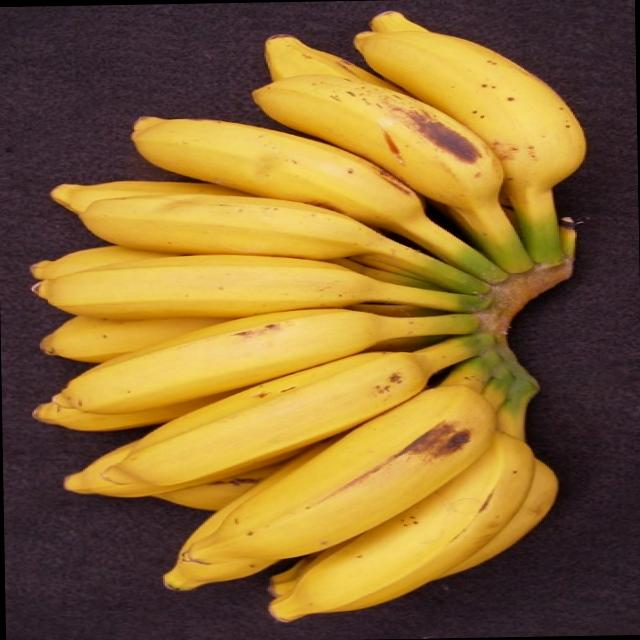Platano: (16, 3, 598, 627)
